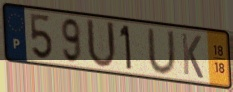1: (118, 24, 134, 72)
5: (28, 12, 54, 61)
9: (59, 16, 83, 65)
K: (180, 31, 205, 81)
U: (85, 16, 119, 71), (145, 27, 178, 77)
